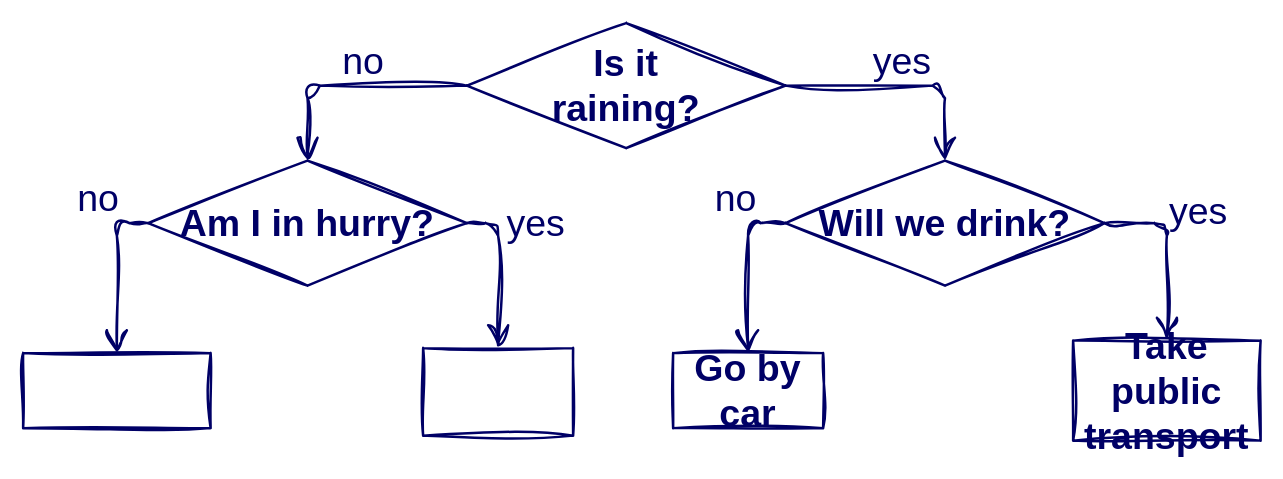
Image size: 1283x479. Some labels were removed from this diagram. Each missing label, with the centre of its shape:
"Go by bike" goes at pixel 497 391.
"Go on foot" goes at pixel 116 390.
